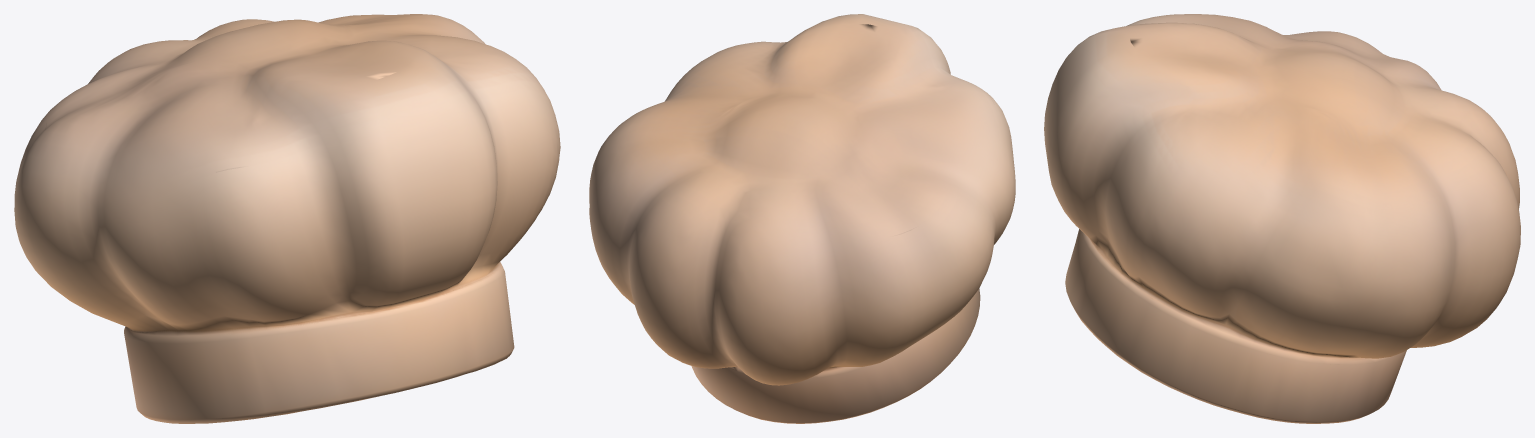
File: 厨师帽.fbx
3 views of the same model, side by side, from view 1: azimuth 30°, elevation 25°; view 2: azimuth 150°, elevation 25°; view 3: azimuth 270°, elevation 25° (orthographic). The views are drawn at different scales.
Visible parts, largest first — view 1: mesh_input; view 2: mesh_input; view 3: mesh_input.
Part boxes in pixels (box(x1,y1,x2,y2)): mesh_input: box(14, 14, 560, 423); mesh_input: box(589, 14, 1015, 423); mesh_input: box(1044, 14, 1520, 423).
Bounding box in the file's own units: 190 × 152 × 187.
1 material, 1 textured.
